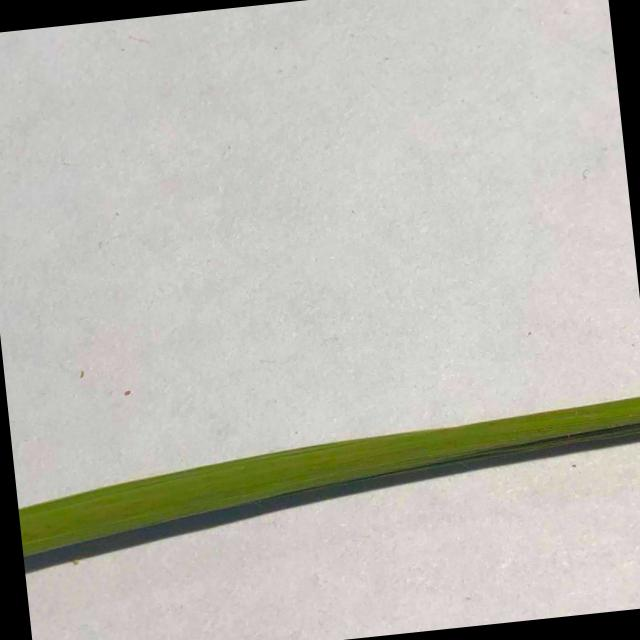Rice_Healthy: (18, 396, 640, 572)
